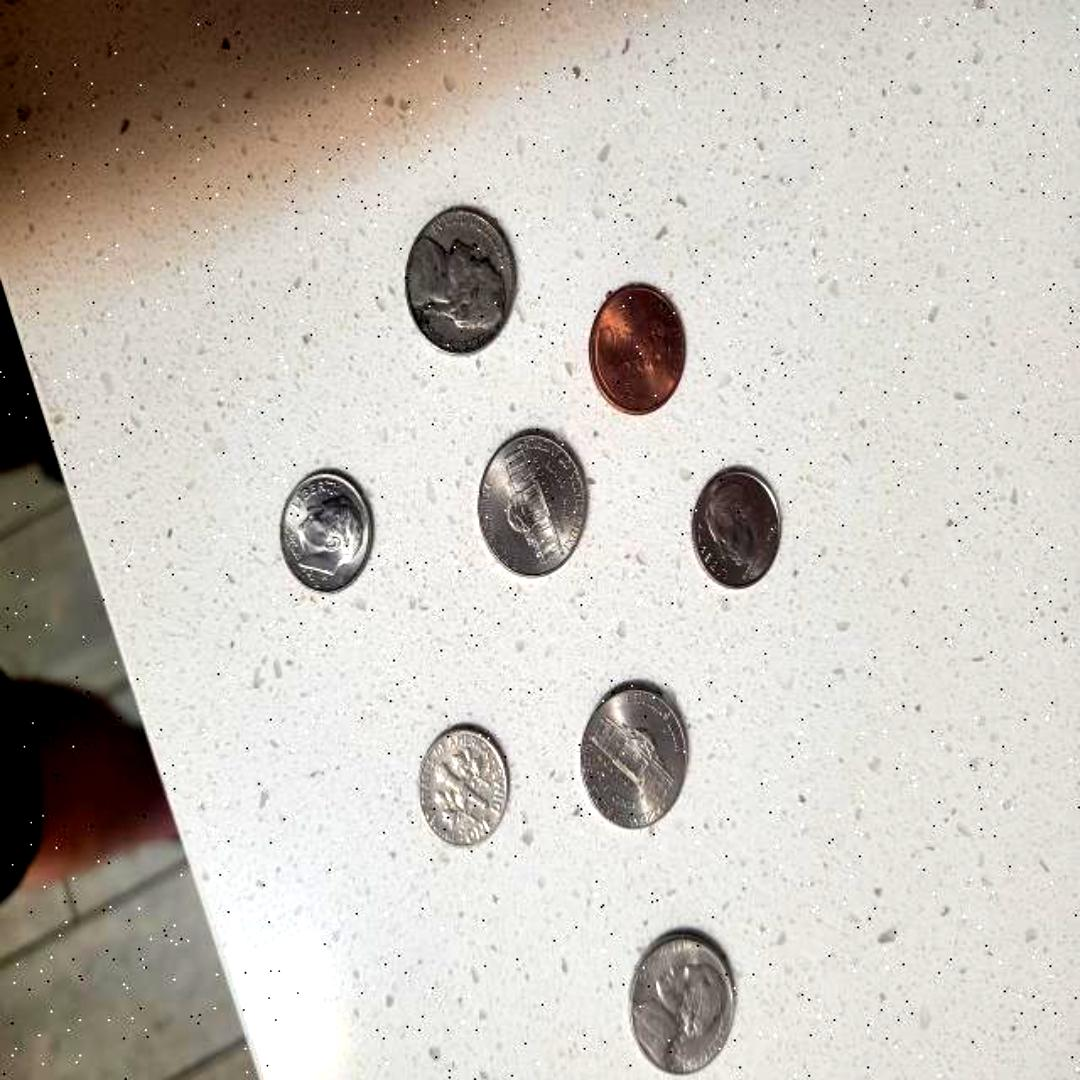Dime: (414, 722, 514, 852), (276, 462, 374, 592), (689, 463, 783, 591)
Nickel: (400, 201, 518, 361), (578, 674, 692, 834), (474, 426, 592, 580), (624, 918, 738, 1074)
Penny: (586, 282, 690, 414)
